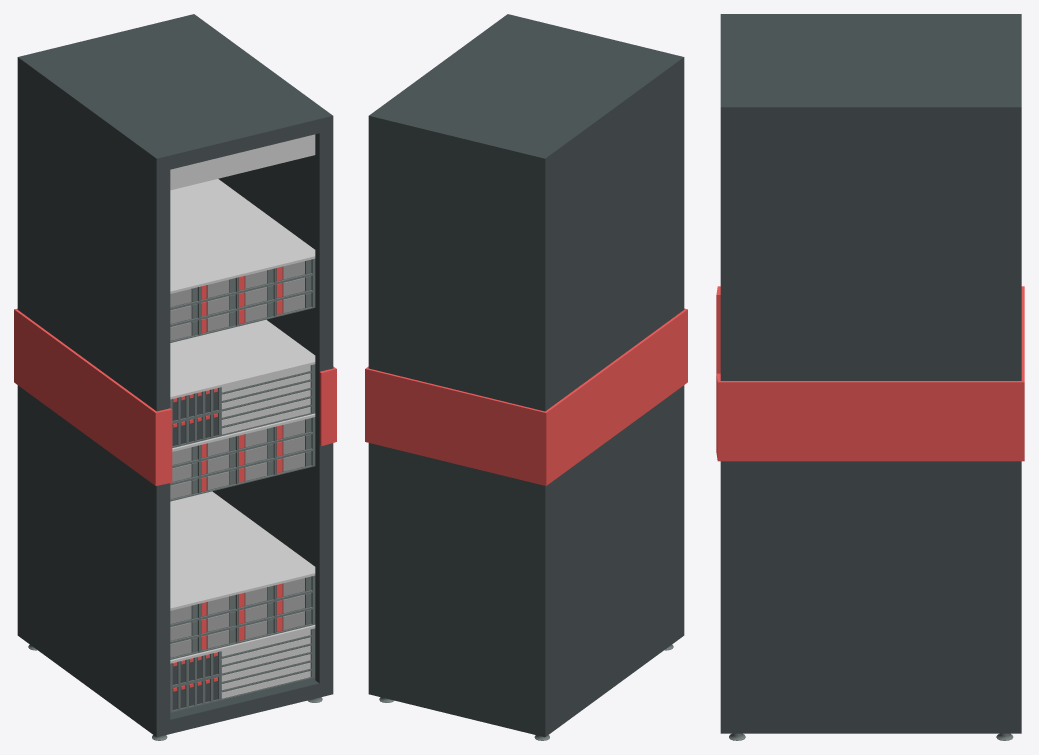
File: server_lvl10.glb
3 views of the same model, side by side, from view 1: azimuth 30°, elevation 25°; view 2: azimuth 150°, elevation 25°; view 3: azimuth 270°, elevation 25° (orthographic). The views are drawn at different scales.
Visible parts, largest first — view 1: feet, tray1, tray1.002, tray2.001, tray2, tray1.001; view 2: feet; view 3: feet.
Boxes of the visible parts, <box> form: feet: <box>14,14,336,740</box>; tray1: <box>170,491,315,659</box>; tray1.002: <box>170,179,315,342</box>; tray2.001: <box>170,319,315,447</box>; tray2: <box>170,625,315,712</box>; tray1.001: <box>170,413,315,501</box>; feet: <box>365,14,687,740</box>; feet: <box>716,14,1024,740</box>.
Bounding box in the file's own units: 0.1535 × 0.4757 × 0.2089.
Materials: 2 (1 with a texture image).
